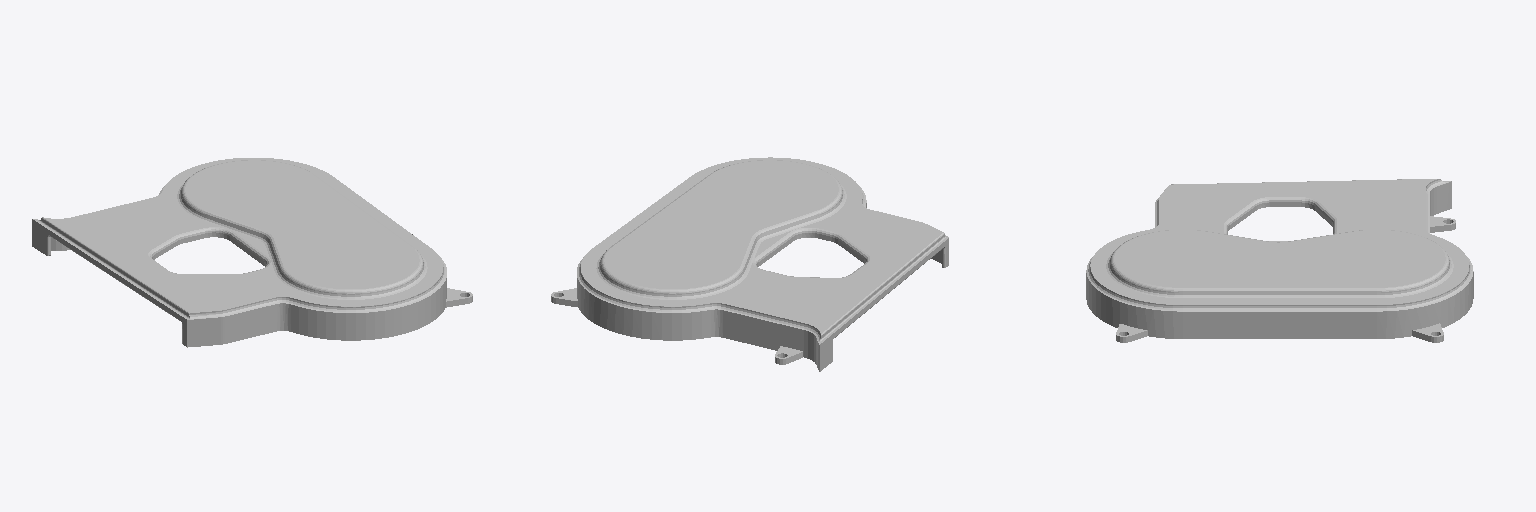
File: Крышка защитная привода ГРМ передняя верхняя.obj
3 views of the same model, side by side, from view 1: azimuth 30°, elevation 25°; view 2: azimuth 150°, elevation 25°; view 3: azimuth 270°, elevation 25° (orthographic).
Visible parts, largest first — view 1: Крышка_защитная_привода_ГРМ_перед; view 2: Крышка_защитная_привода_ГРМ_перед; view 3: Крышка_защитная_привода_ГРМ_перед.
Boxes of the visible parts, <box> form: Крышка_защитная_привода_ГРМ_перед: <box>32,158,472,347</box>; Крышка_защитная_привода_ГРМ_перед: <box>551,157,948,371</box>; Крышка_защитная_привода_ГРМ_перед: <box>1086,179,1473,342</box>.
Bounding box in the file's own units: 241 × 33 × 293.